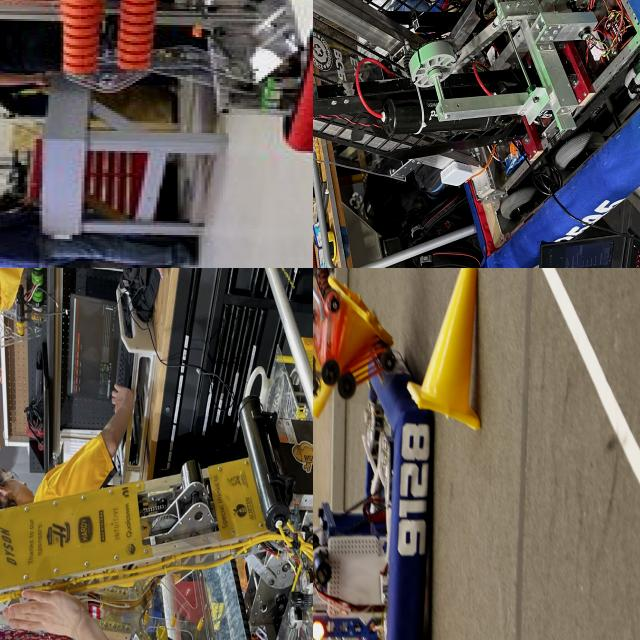FRC-Robots: (0, 320, 313, 640), (313, 0, 640, 263), (313, 268, 479, 640), (0, 0, 313, 151)
